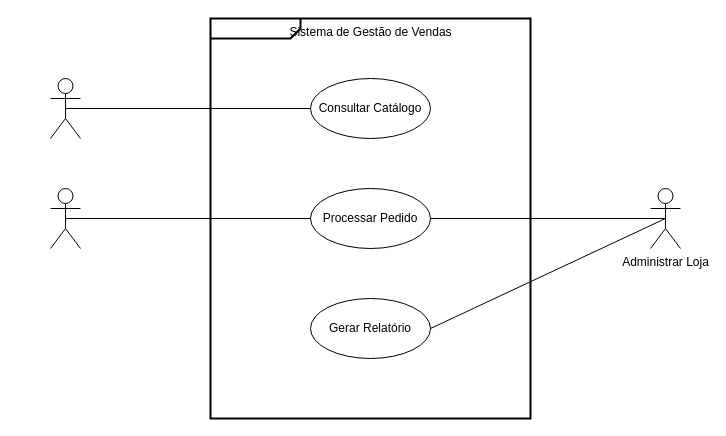
Some shapes in this 726 by 436 pixel diagram are drawn without their labels. Here are the shapes that lost their labels. From the top down, the centre of each, then its label:
[65,108]: Visualizar Produto
[65,218]: Efetuar Compra
